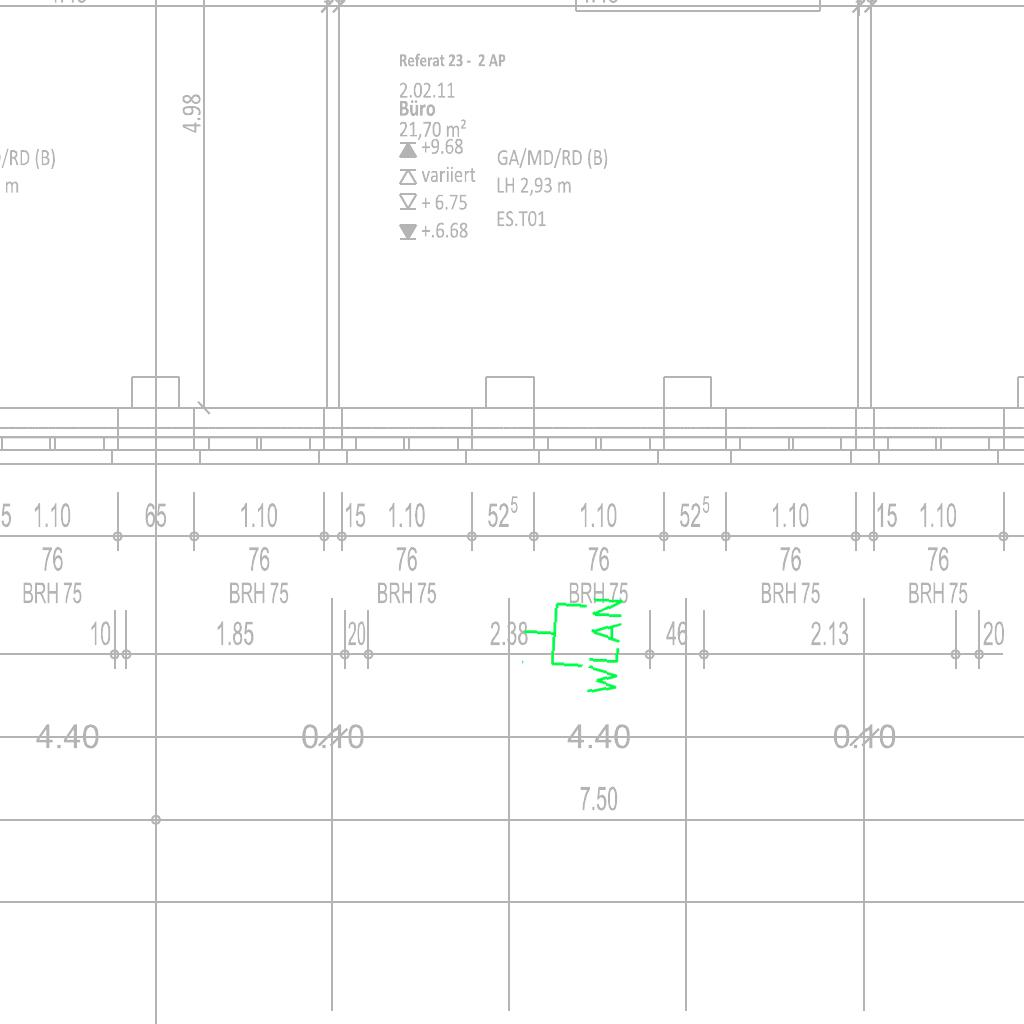WLAN: (516, 588, 628, 701)
